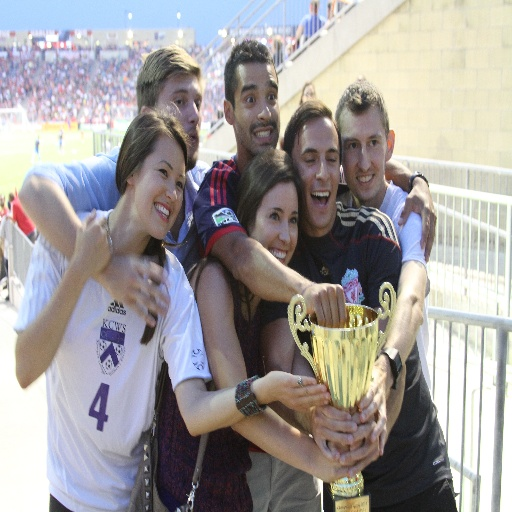hand: (108, 253, 172, 327), (353, 361, 392, 455), (396, 179, 438, 262), (263, 366, 332, 415), (336, 412, 381, 478), (70, 206, 113, 275), (306, 403, 356, 462), (300, 286, 352, 332), (328, 434, 365, 480)
